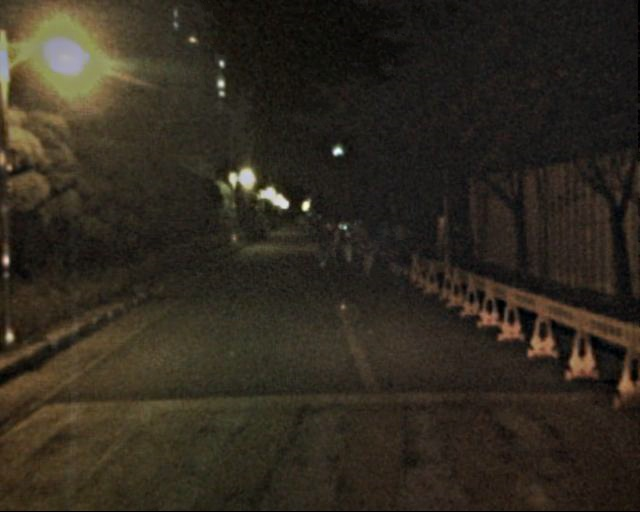person: (387, 225, 414, 292), (342, 215, 365, 272), (373, 218, 396, 273), (310, 218, 331, 269), (358, 226, 378, 275), (326, 219, 346, 267)
